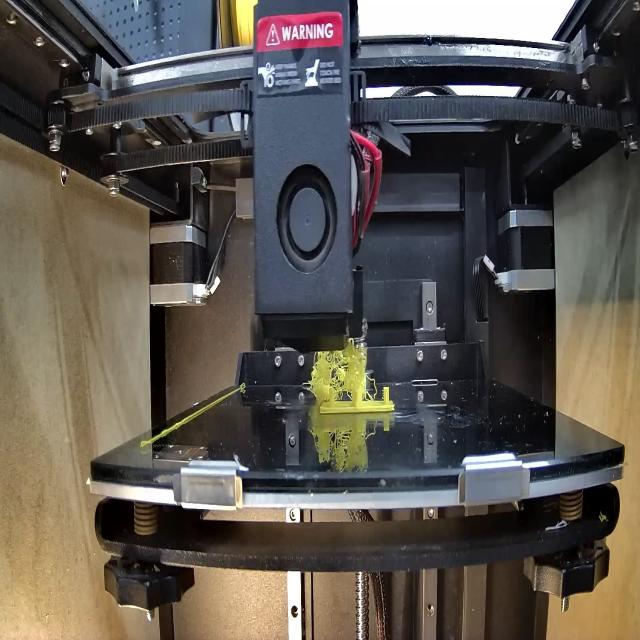spaghetti: (306, 339, 376, 401)
